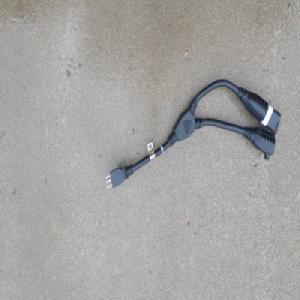Wire: (104, 77, 282, 190)
